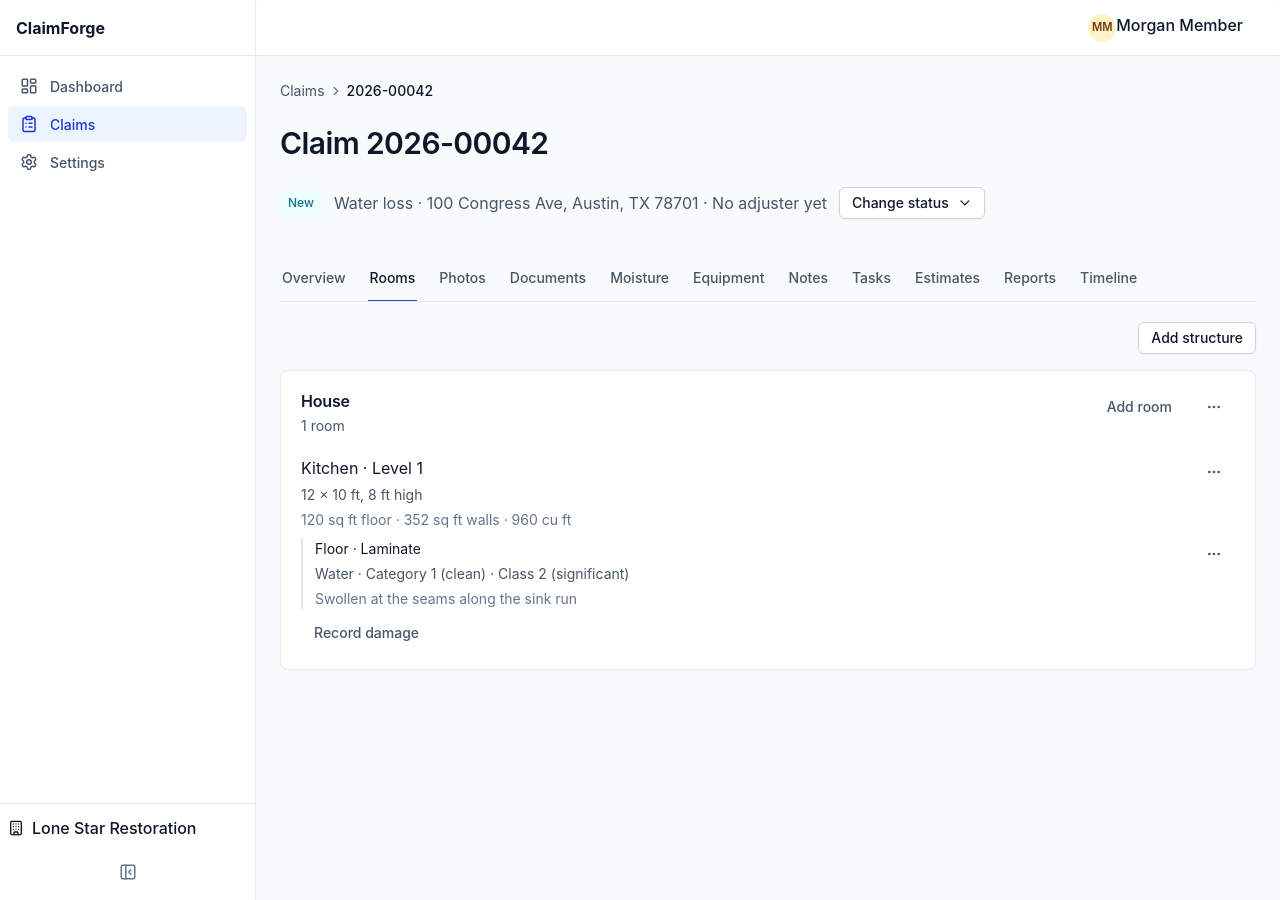
damage in a room › asks for what's damaged and the material before asking the API
The image size is (1280, 900).
Click the button with aria-label "Record damage in the Kitchen". click: (367, 632)
box: 301,616 -> 432,648
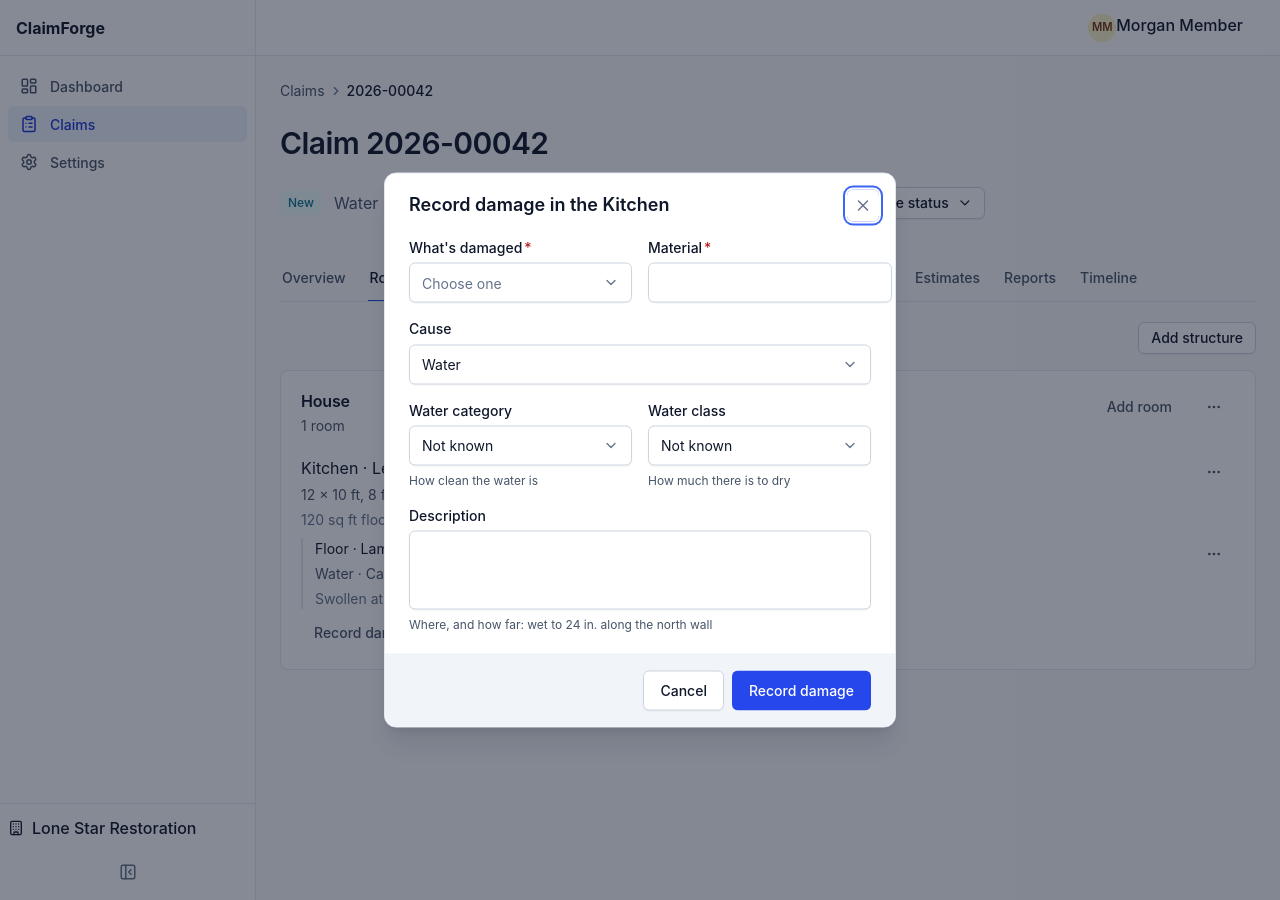
Click the button "Record damage". click: (801, 690)
box: 732,670 -> 871,710
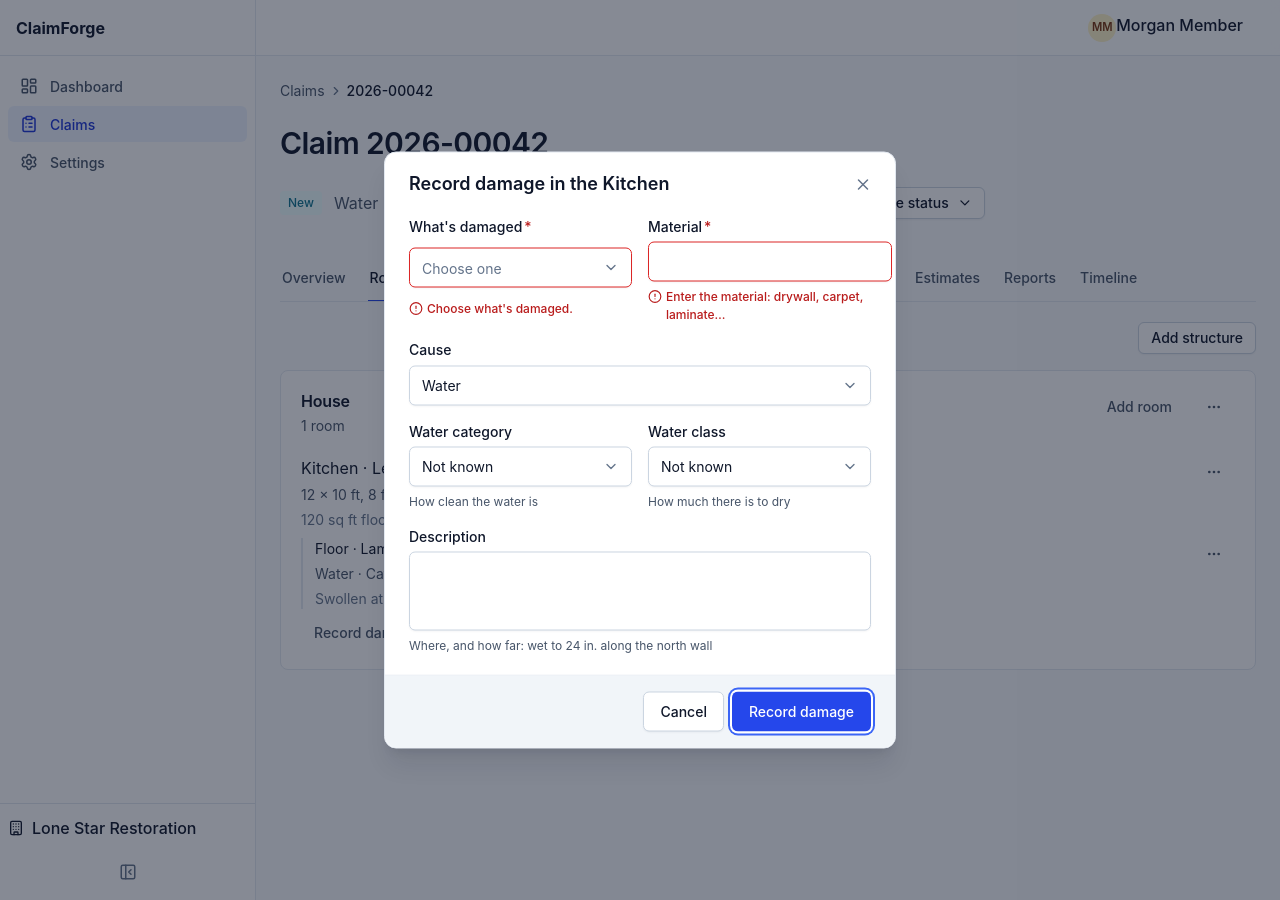
Now the text "Choose what's damaged." is shown, box 427,300 -> 573,318
Now the text "Enter the material: drywall, carpet, laminate…" is shown, box 666,288 -> 892,324
